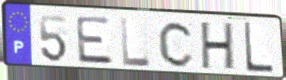5: (37, 13, 69, 63)
C: (157, 20, 196, 69)
E: (74, 15, 116, 67)
H: (200, 21, 236, 72)
L: (242, 21, 276, 76), (119, 16, 153, 68)
